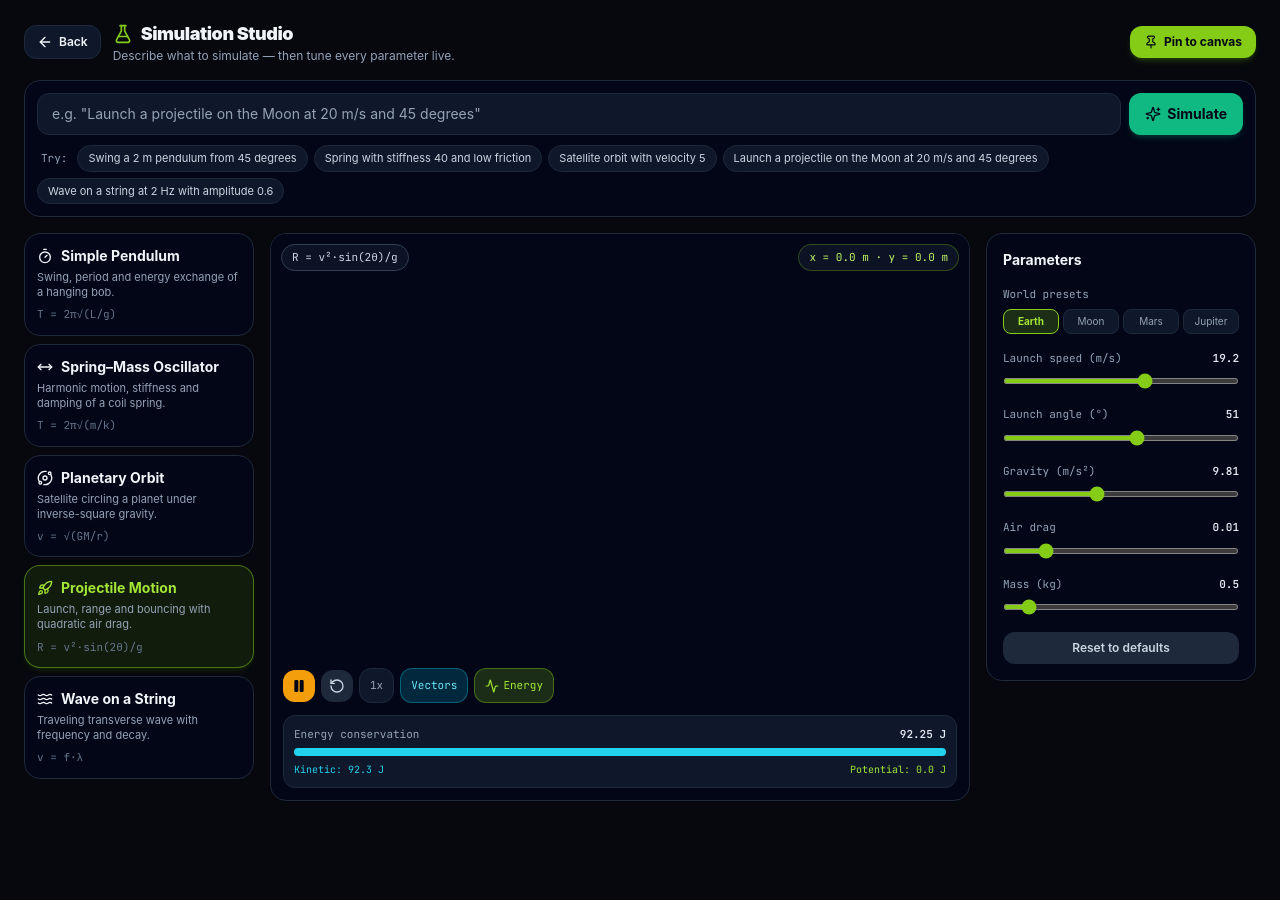
it: SimulationStudio section › warns when the requirement matches nothing
Replace the text in the field with placeholder "Launch a projectile on the Moon" with "asdfgh qwerty" at (579, 114), box [37,93,1121,135]
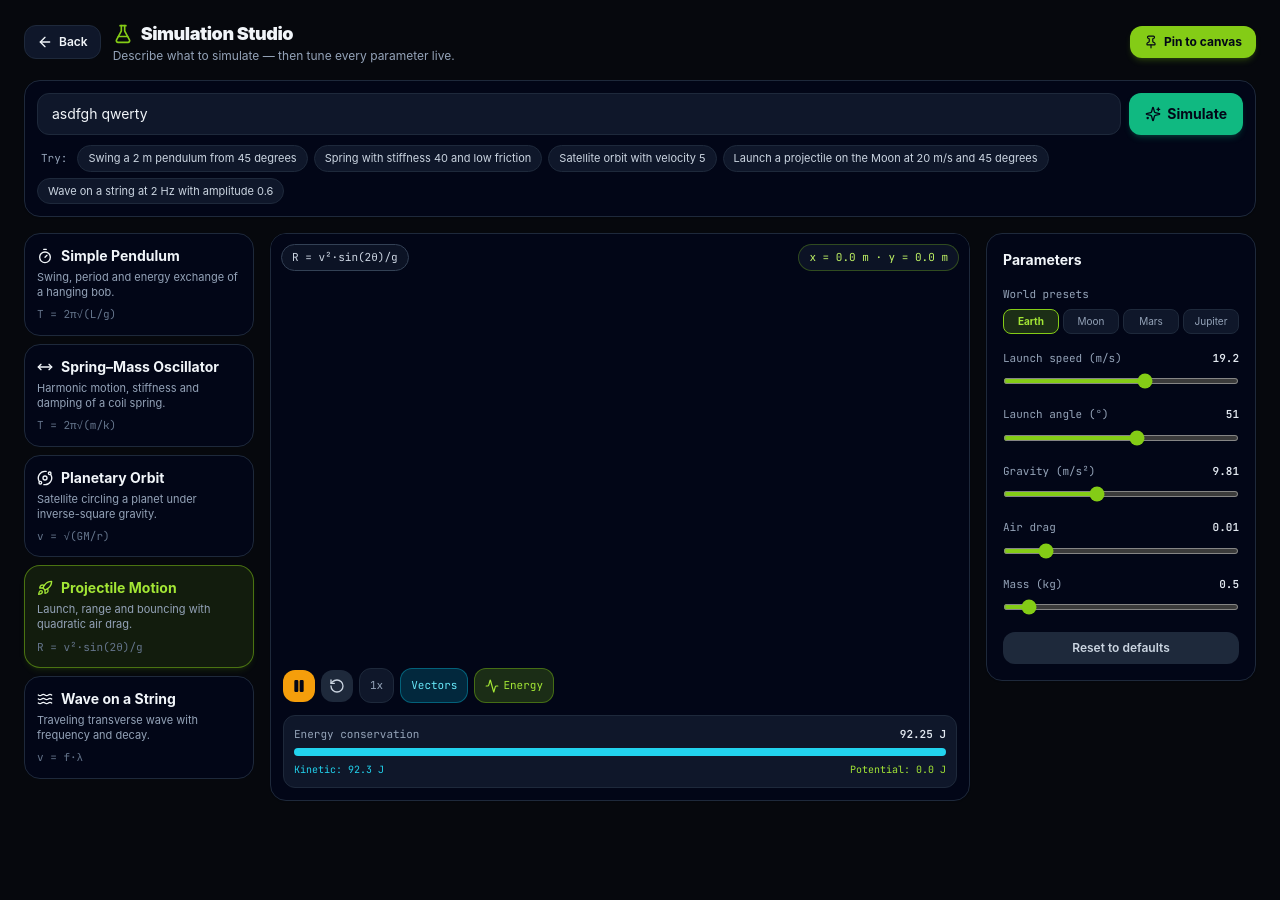
Click the button "Simulate" at (1186, 114), box [1129,93,1243,135]
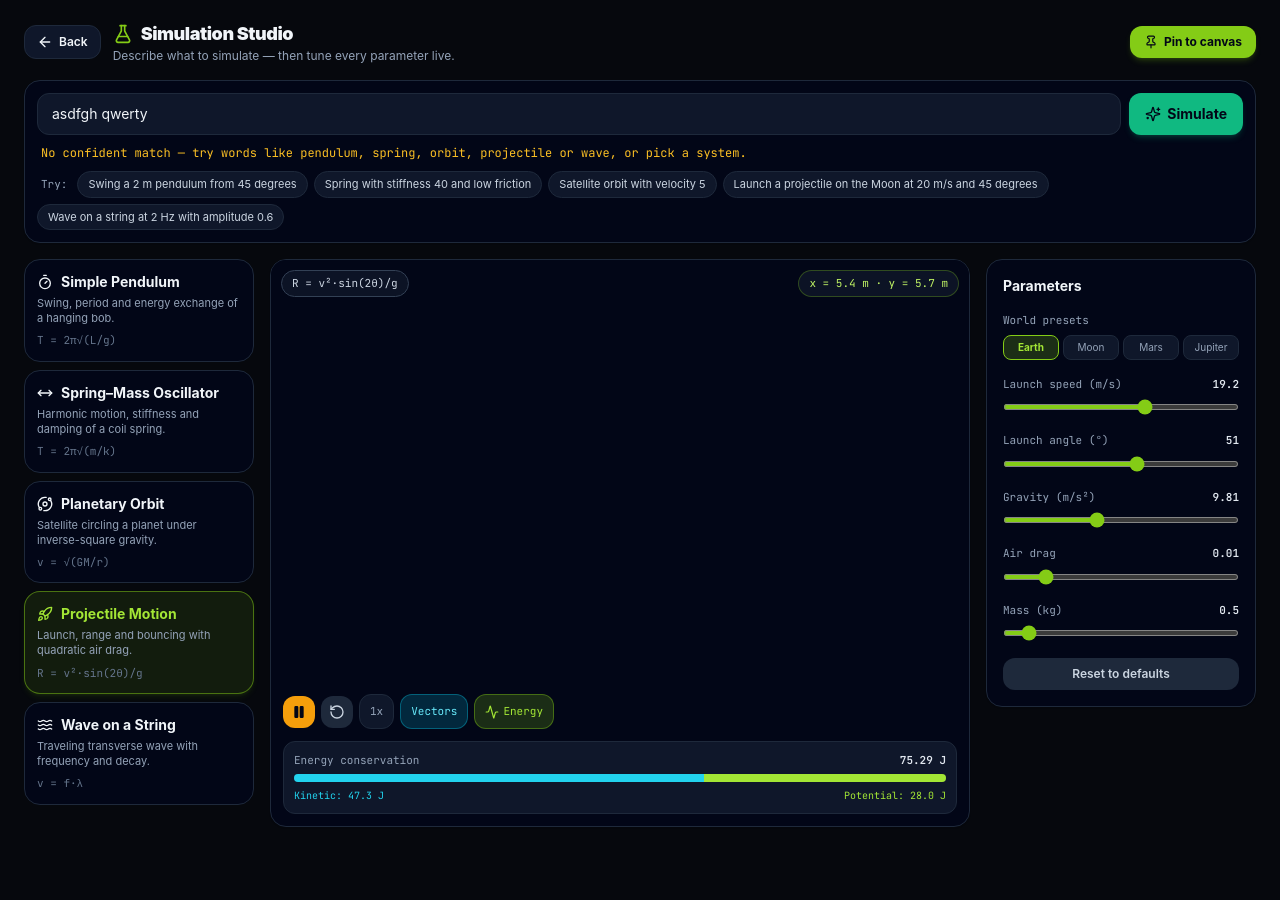
Check: the text "No confident match" is shown, box [41,145,747,161]
